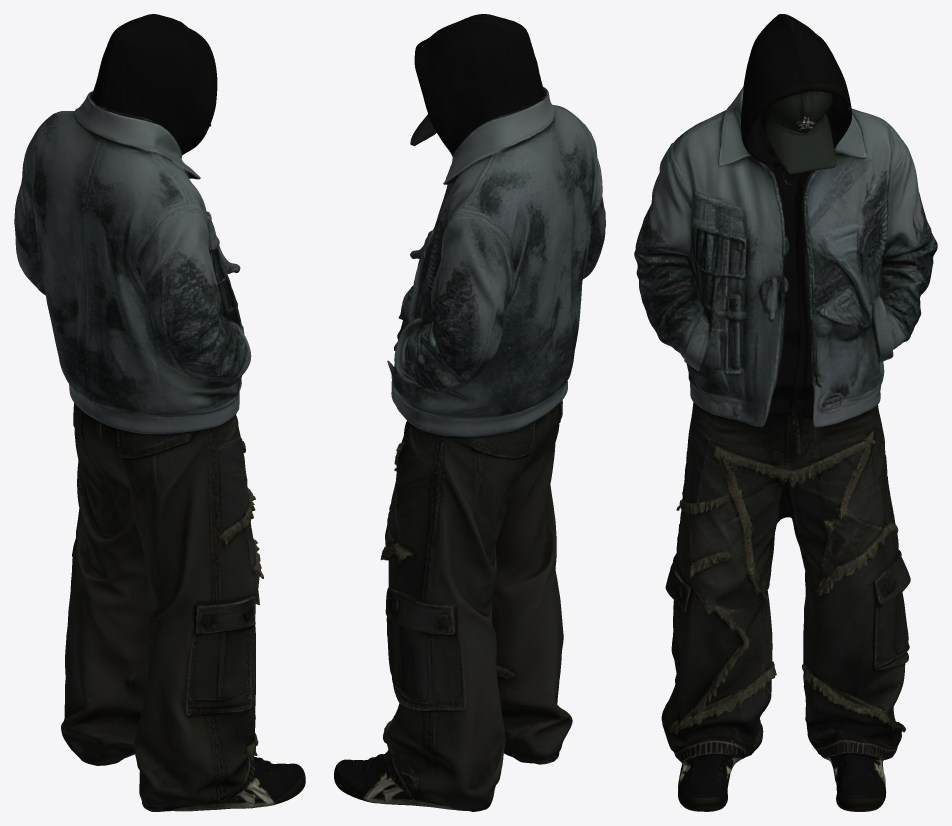
File: generated_model (5).glb
The picture shows the model from 3 angles, left to right: view 1: azimuth 30°, elevation 25°; view 2: azimuth 150°, elevation 25°; view 3: azimuth 270°, elevation 25°; orthographic projection. The views are drawn at different scales.
Visible parts, largest first — view 1: threedium_node_1498dcc4-4f10-4bf3-9983-47583e57fbed; view 2: threedium_node_1498dcc4-4f10-4bf3-9983-47583e57fbed; view 3: threedium_node_1498dcc4-4f10-4bf3-9983-47583e57fbed.
Boxes of the visible parts, box(x1,y1,x2,y2) form: threedium_node_1498dcc4-4f10-4bf3-9983-47583e57fbed: box(14, 14, 305, 811); threedium_node_1498dcc4-4f10-4bf3-9983-47583e57fbed: box(334, 14, 605, 811); threedium_node_1498dcc4-4f10-4bf3-9983-47583e57fbed: box(634, 14, 937, 811).
Bounding box in the file's own units: 0.2646 × 0.9971 × 0.3702.
1 material, 1 textured.
